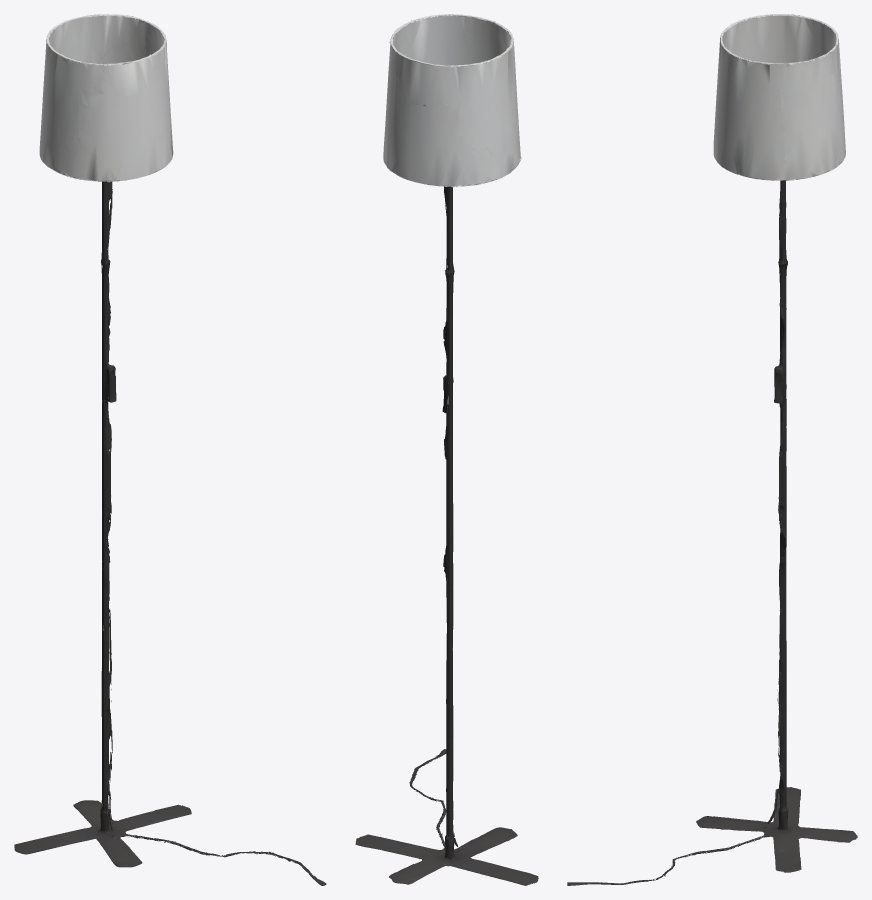
The model's file is ikea-barlast-floor-lamp-black-white-59-70437814.glb.
3 views of the same model, side by side, from view 1: azimuth 30°, elevation 25°; view 2: azimuth 150°, elevation 25°; view 3: azimuth 270°, elevation 25° (orthographic). The views are drawn at different scales.
Parts seen in each view (by area): view 1: model; view 2: model; view 3: model.
Part boxes in pixels (box(x1,y1,x2,y2)): model: box(14, 14, 326, 885); model: box(355, 14, 538, 885); model: box(567, 14, 857, 885).
Size of the model in its own units: 0.4665 by 1.76 by 0.5837.
Materials: 1 (1 with a texture image).
